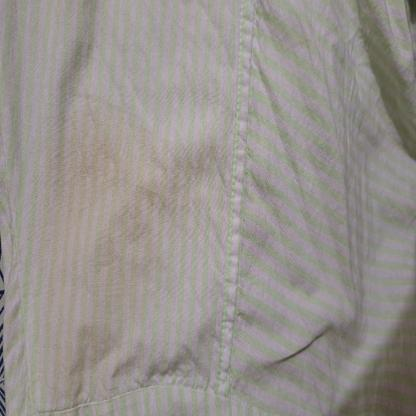spot: (43, 40, 213, 390)
